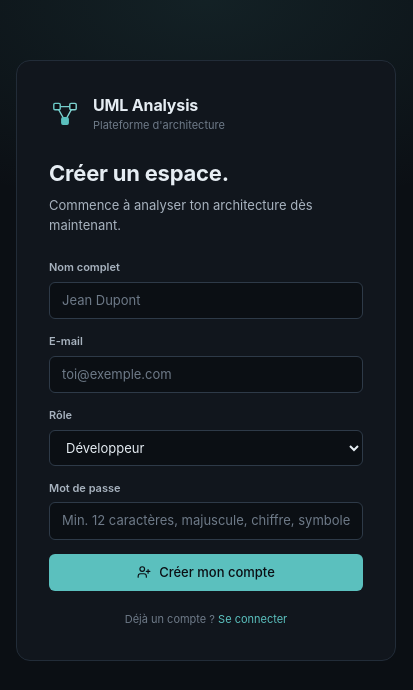
Scenario: Register › shows hint when password has no uppercase
Type "alllower1234!" into the password field with placeholder "Min. 12 caractères, majuscule, chiffre, symbole".
click(206, 521); type("alllower1234!")  # box [49,502,363,540]
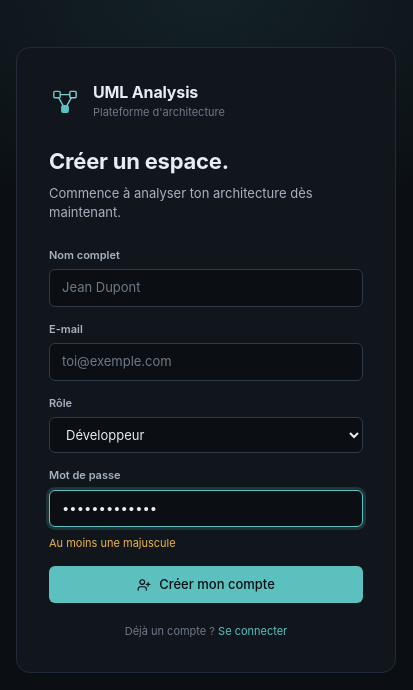
expect the text "Au moins une majuscule" is shown: met, box [49,536,176,550]
